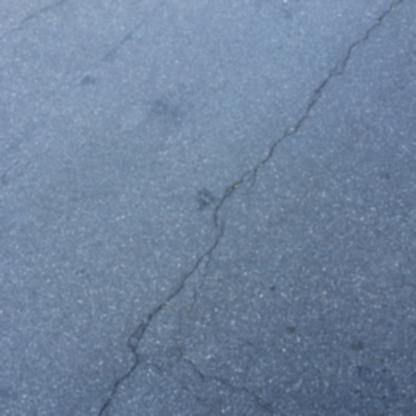Cracks: (74, 0, 411, 415)
